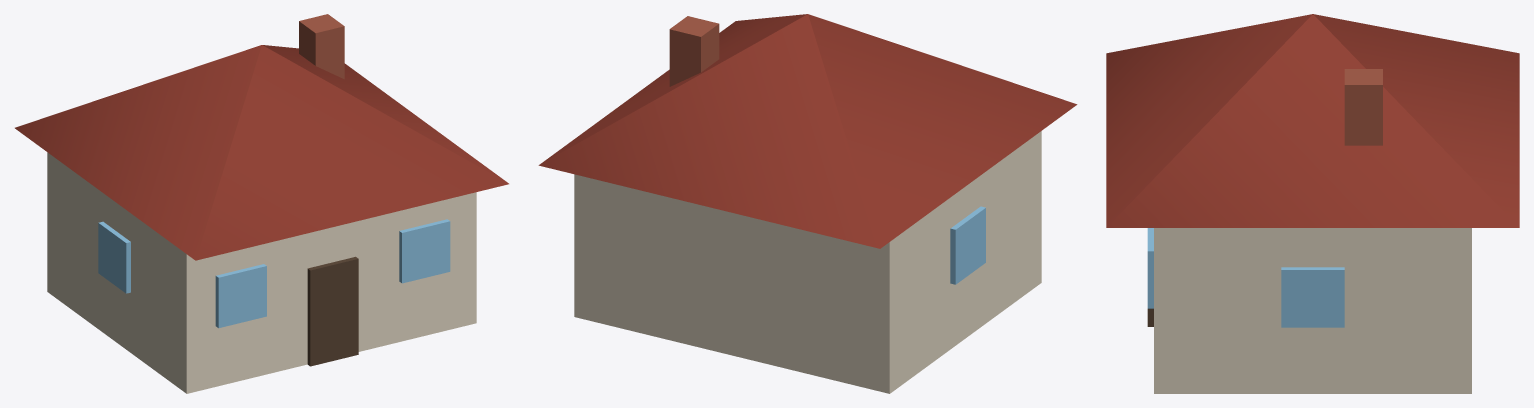
The model's file is modelo-exemplo.gltf.
3 renders of one model, left to right at view 1: azimuth 30°, elevation 25°; view 2: azimuth 150°, elevation 25°; view 3: azimuth 270°, elevation 25°, orthographic. The views are drawn at different scales.
Bounding box in the file's own units: 6.51 × 5.2 × 6.51.
